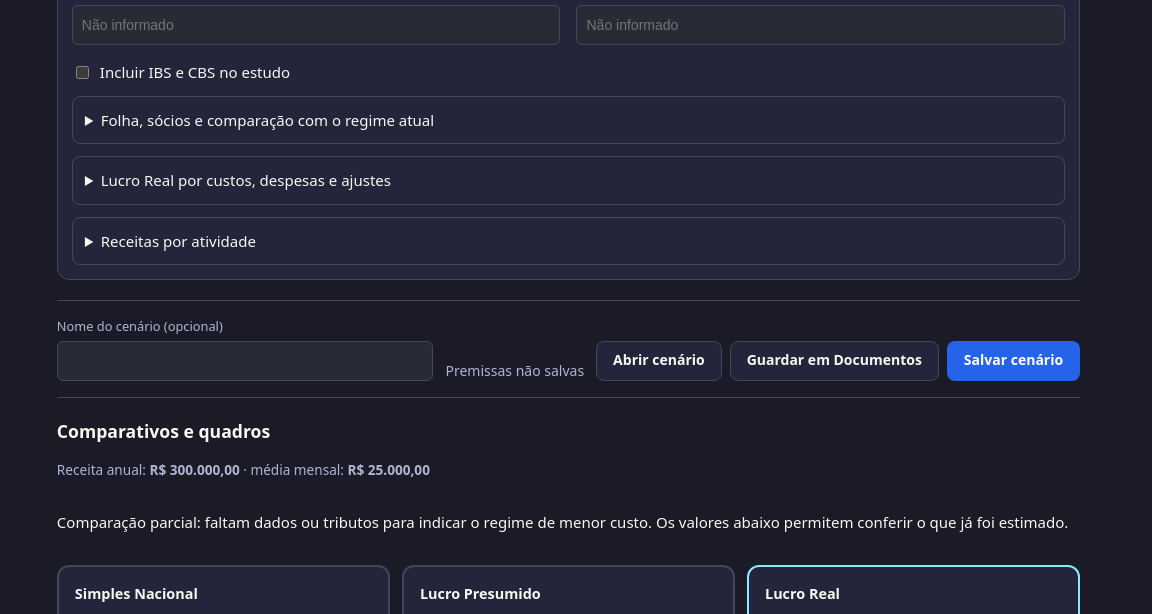
Test: ⚠⚠ os DOIS atos, e os desfechos que não podem ser o mesmo › caminho feliz: salva, gera e diz onde foi parar
(page scrolled)
Click the button "Guardar em Documentos".
click(834, 361)  # box [730,341,939,381]
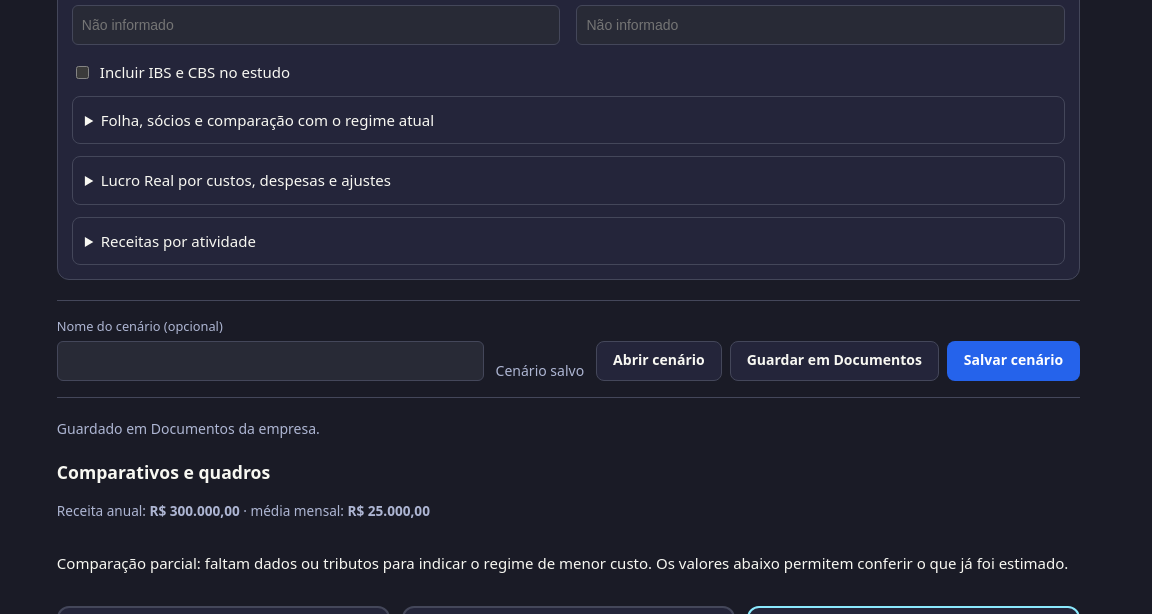
Expected: the text "Guardado em Documentos da empresa." is shown, [57,419,320,438]
